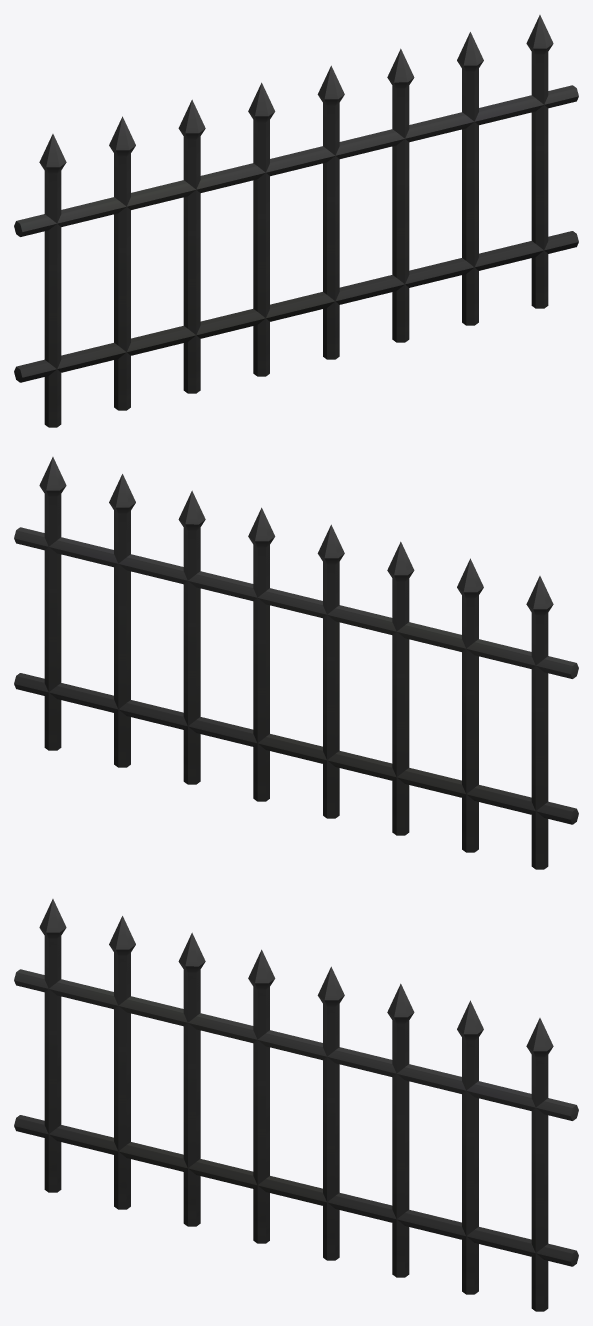
Rendered from fence_seperate.glb.
3 views of the same model, one above another, from view 1: azimuth 30°, elevation 25°; view 2: azimuth 150°, elevation 25°; view 3: azimuth 330°, elevation 25° (orthographic).
Visible parts, largest first — view 1: fence_seperate; view 2: fence_seperate; view 3: fence_seperate.
Part boxes in pixels (x1,y1,x2,y2): fence_seperate: [14, 15, 578, 427]; fence_seperate: [14, 457, 578, 869]; fence_seperate: [14, 899, 578, 1311].
Bounding box in the file's own units: 4 × 2 × 0.1694.
Materials: 1 (1 with a texture image).
